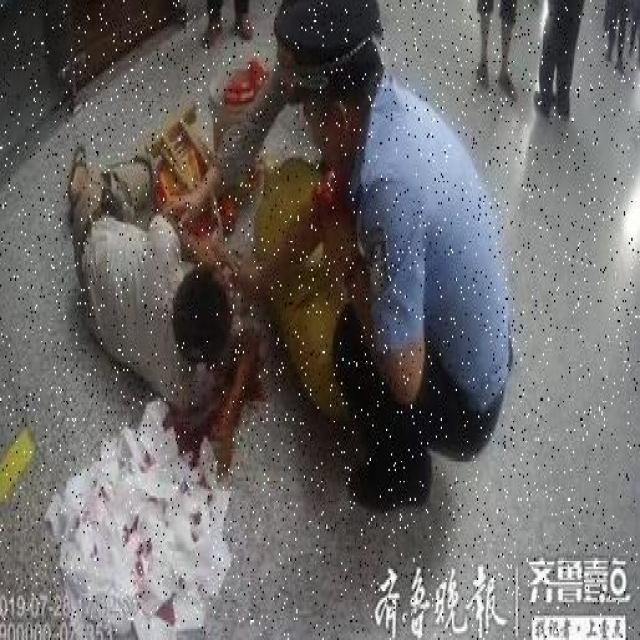fall: (68, 162, 240, 454)
